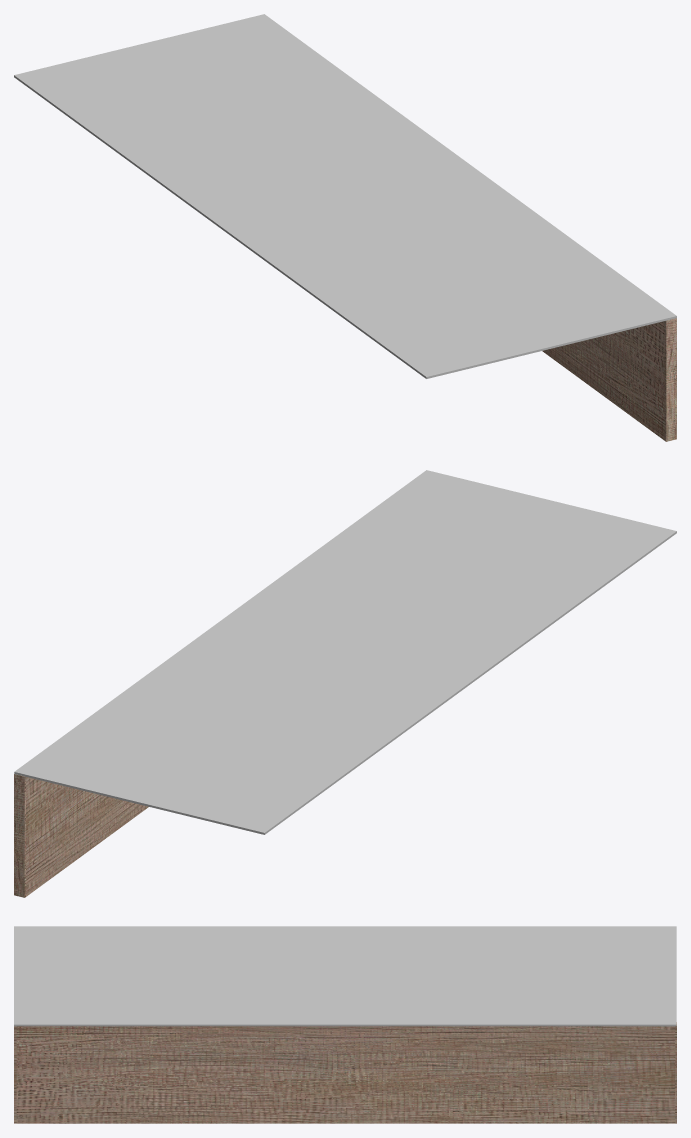
File: board fix.fbx
3 views of the same model, one above another, from view 1: azimuth 30°, elevation 25°; view 2: azimuth 150°, elevation 25°; view 3: azimuth 270°, elevation 25° (orthographic). The views are drawn at different scales.
Parts seen in each view (by area): view 1: Box2131640272, Box2131640266; view 2: Box2131640272, Box2131640266; view 3: Box2131640272, Box2131640266.
Part boxes in pixels (x1,y1,x2,y2): Box2131640272: [14, 14, 676, 378]; Box2131640266: [542, 318, 676, 441]; Box2131640272: [14, 470, 676, 834]; Box2131640266: [14, 774, 148, 897]; Box2131640272: [14, 926, 676, 1026]; Box2131640266: [14, 1022, 676, 1123].
Bounding box in the file's own units: 256 × 120 × 730.
Materials: 2 (1 with a texture image).
